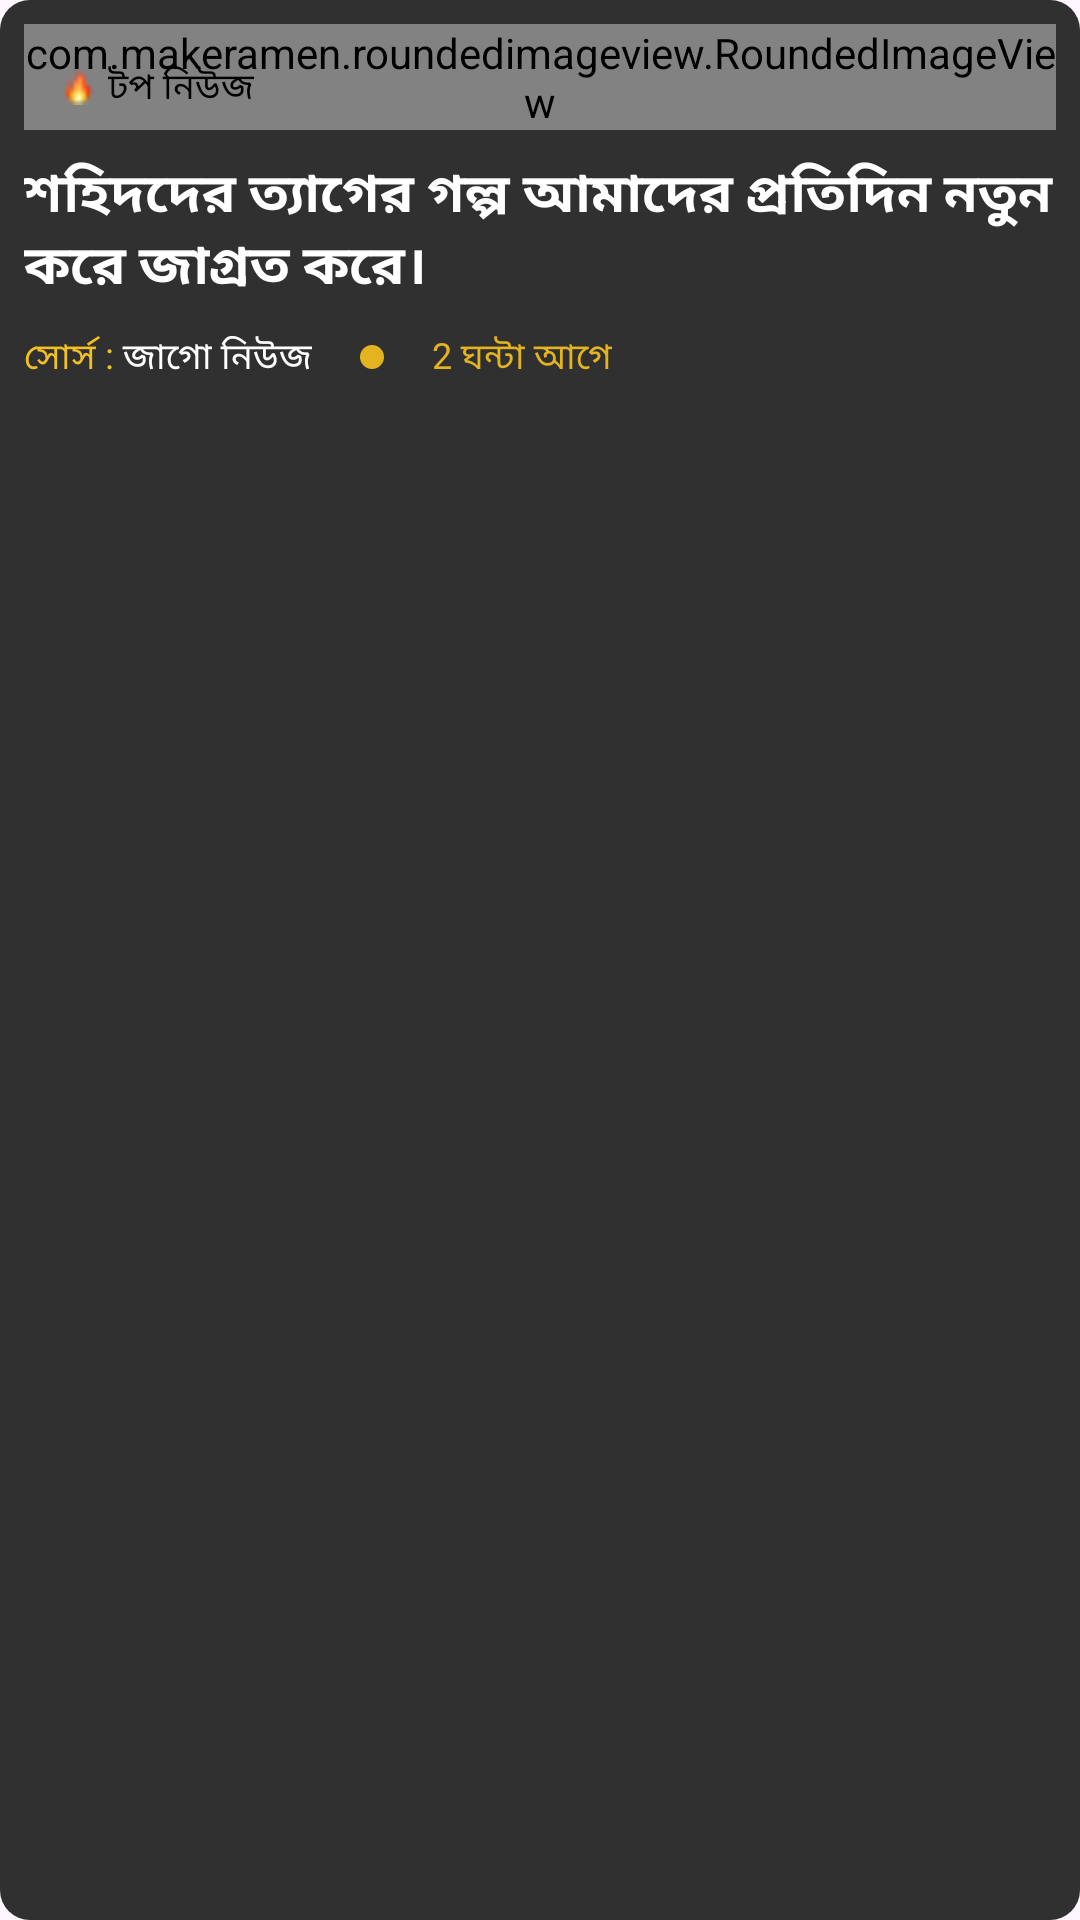

Screen size 1080×1920. Icon name, then its box in pixels as (x1, y1, x2, y2):
fire: (65, 72, 92, 105)
